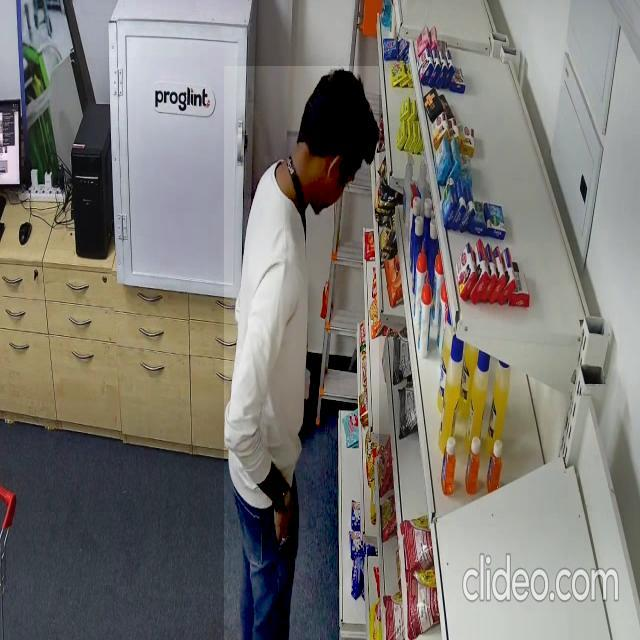Shoplifting: (224, 66, 379, 640)
